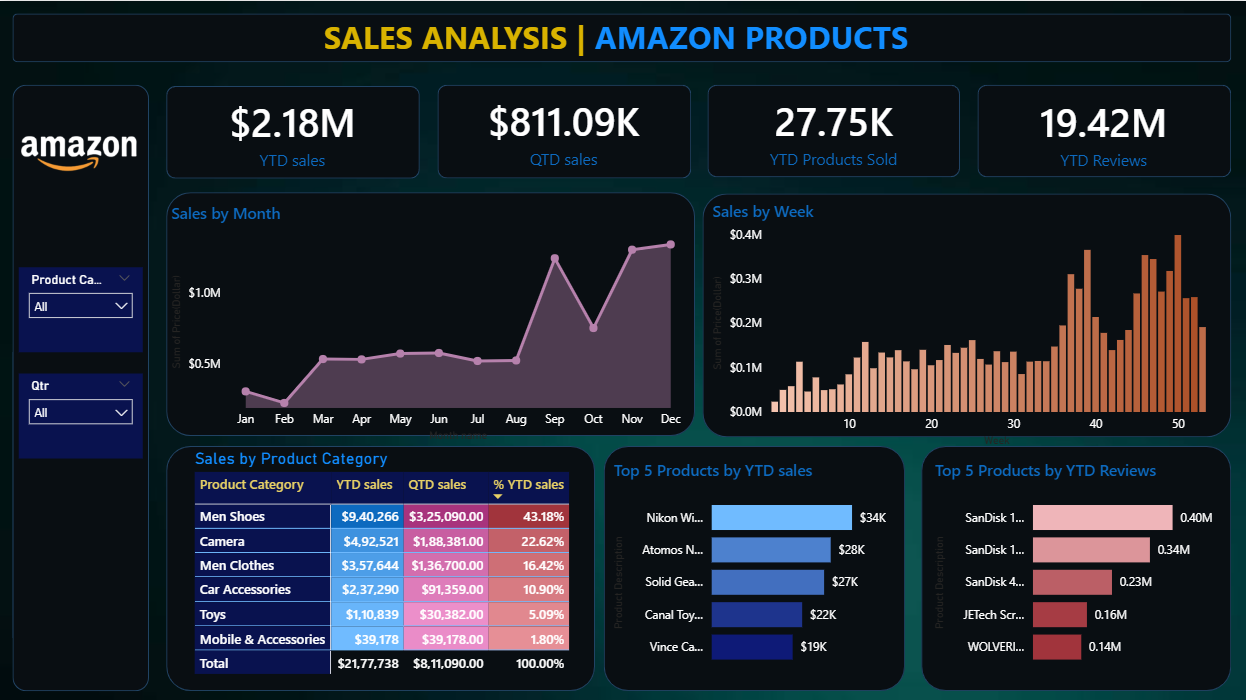

This screenshot's page, from the dashboard's own definition file:
{"tool":"powerbi","page":{"name":"Page 1","canvas":[1280,720],"ordinal":0},"visuals":[{"type":"shape","box":[12.8,12.8,1250,50],"z":0},{"type":"textbox","box":[326.9,10.3,625.6,57.7],"z":1000},{"type":"shape","box":[12.8,85.9,140,622],"z":2000},{"type":"shape","box":[170.5,87.2,260,95],"z":3000},{"type":"card","fields":{"Values":["Amazon_Data.YTD sales"]},"box":[184.6,87.2,230.8,94.9],"z":4000},{"type":"shape","box":[1002.6,85.9,260.3,94.9],"z":5000},{"type":"shape","box":[726,85.9,259,94.9],"z":6000},{"type":"shape","box":[448.1,85.9,260.3,96.2],"z":7000},{"type":"card","fields":{"Values":["Amazon_Data.QTD sales"]},"box":[462.8,85.9,230.8,94.9],"z":8000},{"type":"card","fields":{"Values":["Amazon_Data.YTD Products Sold"]},"box":[739.7,85.9,230.8,94.9],"z":9000},{"type":"card","fields":{"Values":["Amazon_Data.YTD Reviews"]},"box":[1016.7,87.2,230.8,94.9],"z":10000},{"type":"shape","box":[170.5,196.2,542.3,250],"z":11000},{"type":"areaChart","title":"Sales by Month","fields":{"Category":["Date Table.Month name"],"Y":["Sum(Amazon_Data.Price(Dollar))"]},"box":[170.5,206.4,538.5,250],"z":12000},{"type":"shape","box":[720.5,197.4,542.3,250],"z":13000},{"type":"columnChart","title":"Sales by Week","fields":{"Category":["Date Table.Week"],"Y":["Sum(Amazon_Data.Price(Dollar))"]},"box":[725.6,203.8,537.2,257.7],"z":14000},{"type":"shape","box":[170.5,456.4,439.7,251.3],"z":15000},{"type":"pivotTable","title":"Sales by Product Category","fields":{"Rows":["Amazon_Data.Product Category"],"Values":["Amazon_Data.YTD sales1","Amazon_Data.QTD sales","Amazon_Data.YTD sales"]},"box":[194.9,459,439.7,246.2],"z":16000},{"type":"shape","box":[619.2,456.4,309,251.3],"z":17000},{"type":"shape","box":[944.9,456.4,317.9,251.3],"z":18000},{"type":"clusteredBarChart","title":"Top 5 Products by YTD sales","fields":{"Category":["Amazon_Data.Product Description"],"Y":["Amazon_Data.YTD sales"]},"box":[624.4,469.2,300,225.6],"z":19000},{"type":"clusteredBarChart","title":"Top 5 Products by YTD Reviews","fields":{"Category":["Amazon_Data.Product Description"],"Y":["Amazon_Data.YTD Reviews"]},"box":[953.8,469.2,300,225.6],"z":20000},{"type":"slicer","fields":{"Values":["Amazon_Data.Product Category"]},"box":[19.2,273.1,126.9,87.2],"z":21000},{"type":"slicer","fields":{"Values":["Date Table.Qtr"]},"box":[19.2,382.1,126.9,87.2],"z":21001},{"type":"image","box":[12.8,87.2,135.9,135.9],"z":21002}]}

Visuals, with their boxes in screenshot pixels (x1, y1, x2, y2), scaled from the page's 1280x720 canvas onto the 1246x700 screenshot:
shape: box=[12, 12, 1229, 61]
textbox: box=[318, 10, 927, 66]
shape: box=[12, 84, 149, 688]
shape: box=[166, 85, 419, 177]
card - Amazon_Data.YTD sales: box=[180, 85, 404, 177]
shape: box=[976, 84, 1229, 176]
shape: box=[707, 84, 959, 176]
shape: box=[436, 84, 690, 177]
card - Amazon_Data.QTD sales: box=[451, 84, 675, 176]
card - Amazon_Data.YTD Products Sold: box=[720, 84, 945, 176]
card - Amazon_Data.YTD Reviews: box=[990, 85, 1214, 177]
shape: box=[166, 191, 694, 434]
"Sales by Month" areaChart: box=[166, 201, 690, 444]
shape: box=[701, 192, 1229, 435]
"Sales by Week" columnChart: box=[706, 198, 1229, 449]
shape: box=[166, 444, 594, 688]
"Sales by Product Category" pivotTable: box=[190, 446, 618, 686]
shape: box=[603, 444, 904, 688]
shape: box=[920, 444, 1229, 688]
"Top 5 Products by YTD sales" clusteredBarChart: box=[608, 456, 900, 676]
"Top 5 Products by YTD Reviews" clusteredBarChart: box=[928, 456, 1220, 676]
slicer - Amazon_Data.Product Category: box=[19, 266, 142, 350]
slicer - Date Table.Qtr: box=[19, 371, 142, 456]
image: box=[12, 85, 145, 217]
